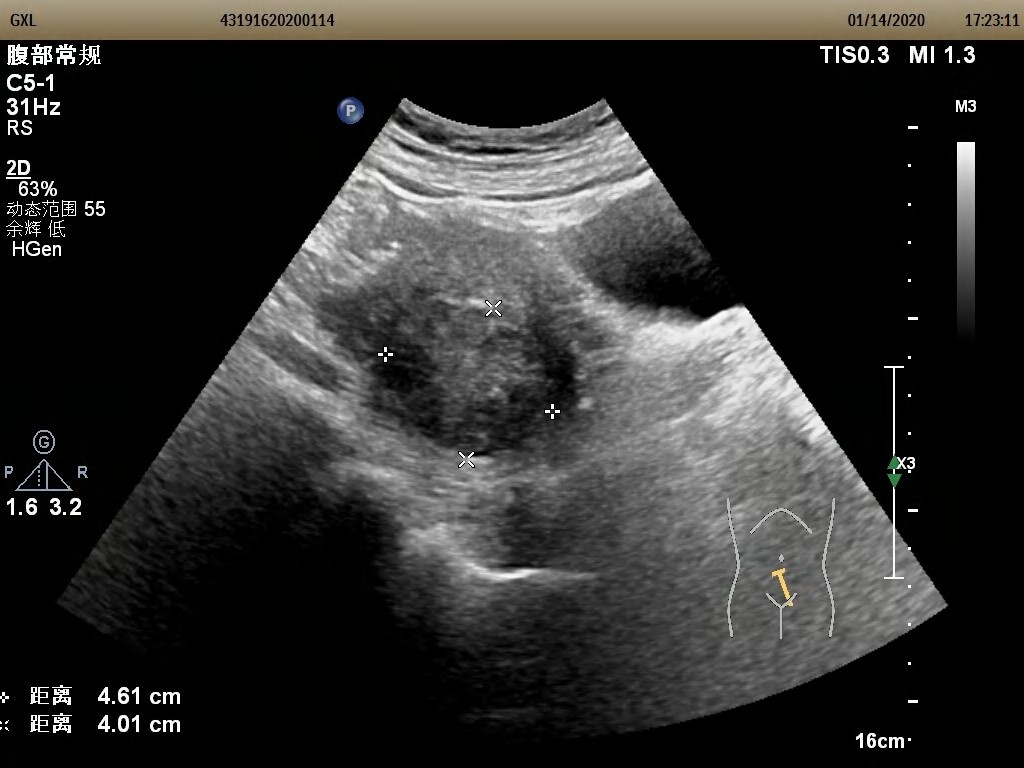肌瘤: (393, 309, 557, 440)
